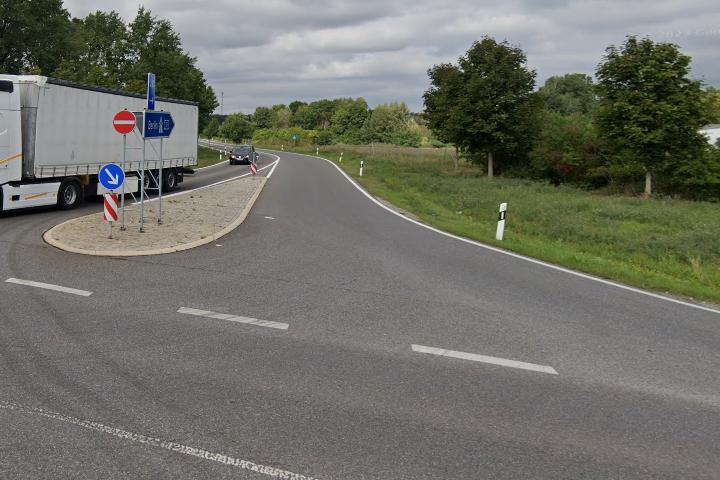traffic_sign: (99, 162, 125, 190), (112, 110, 137, 134)
vehicle: (1, 72, 203, 216), (227, 142, 259, 170)
